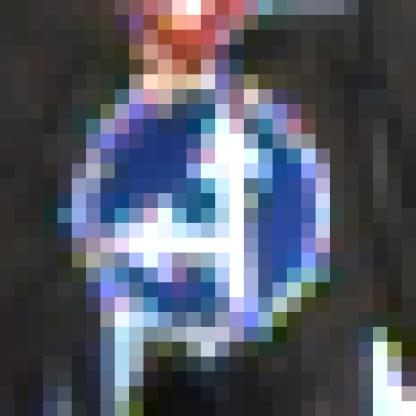Straight or Left: (87, 75, 345, 343)
